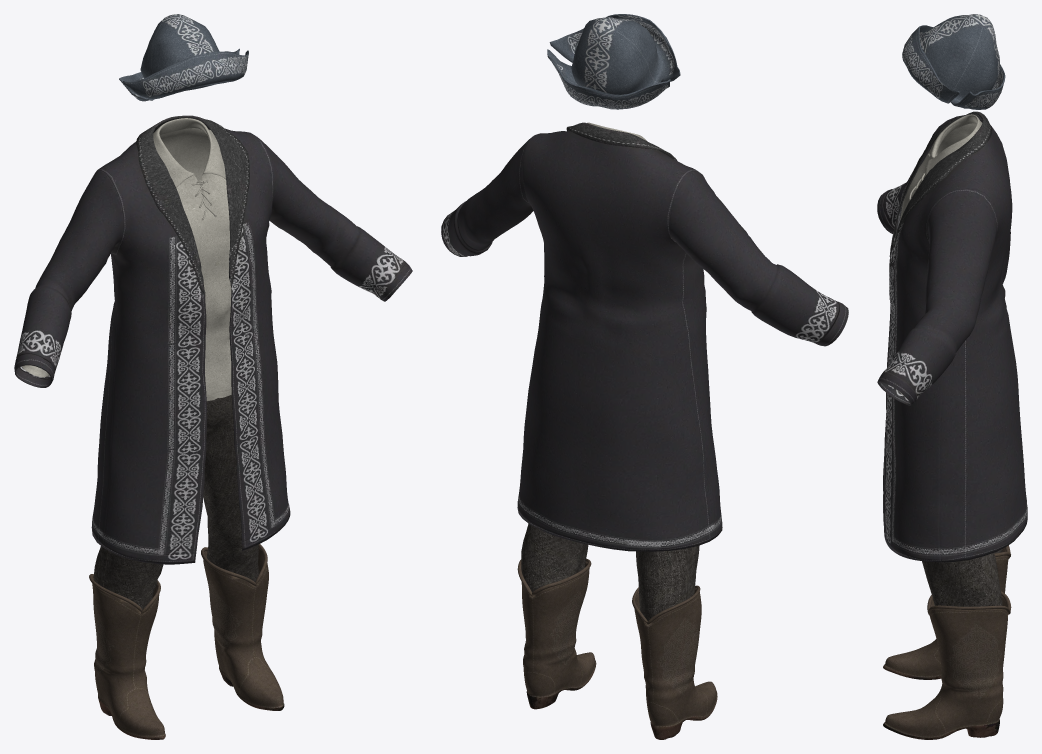
The model's file is kazakh_shapan.glb.
3 renders of one model, left to right at view 1: azimuth 30°, elevation 25°; view 2: azimuth 150°, elevation 25°; view 3: azimuth 270°, elevation 25°, orthographic. The views are drawn at different scales.
Size of the model in its own units: 1.13 by 1.87 by 0.3707.
Materials: 5 (5 with a texture image).
